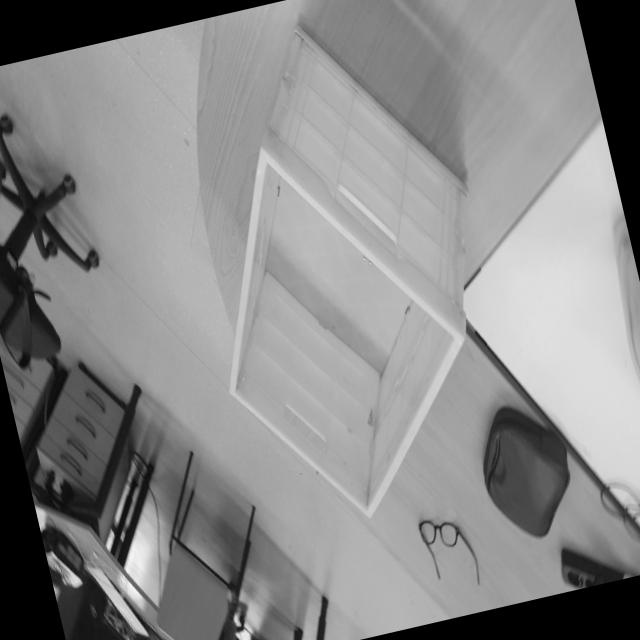box: (131, 0, 536, 551)
